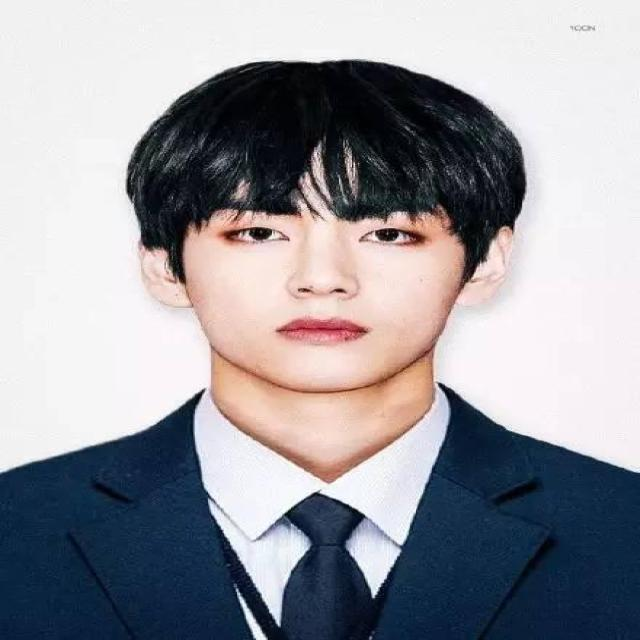Open: (356, 225, 428, 248), (220, 224, 291, 246)
